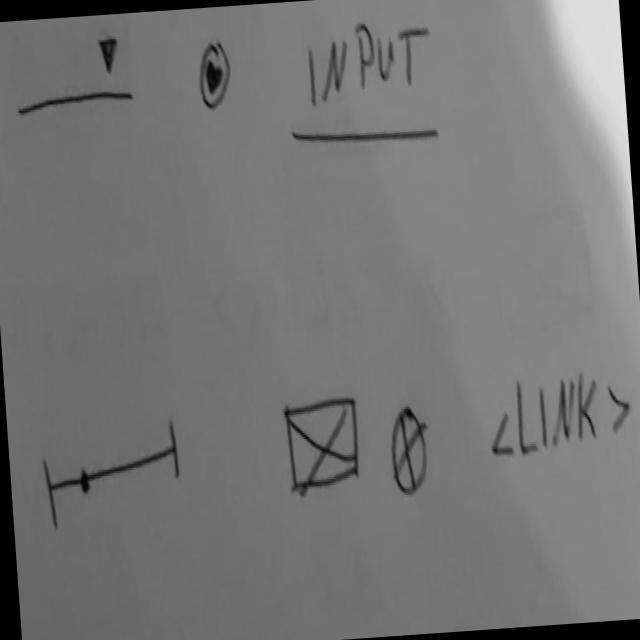icon-button: (195, 34, 237, 117)
image: (282, 392, 365, 499), (387, 403, 434, 501)
input: (283, 15, 443, 156)
link: (485, 362, 638, 464)
select: (9, 29, 138, 121)
slider: (38, 415, 186, 533)
